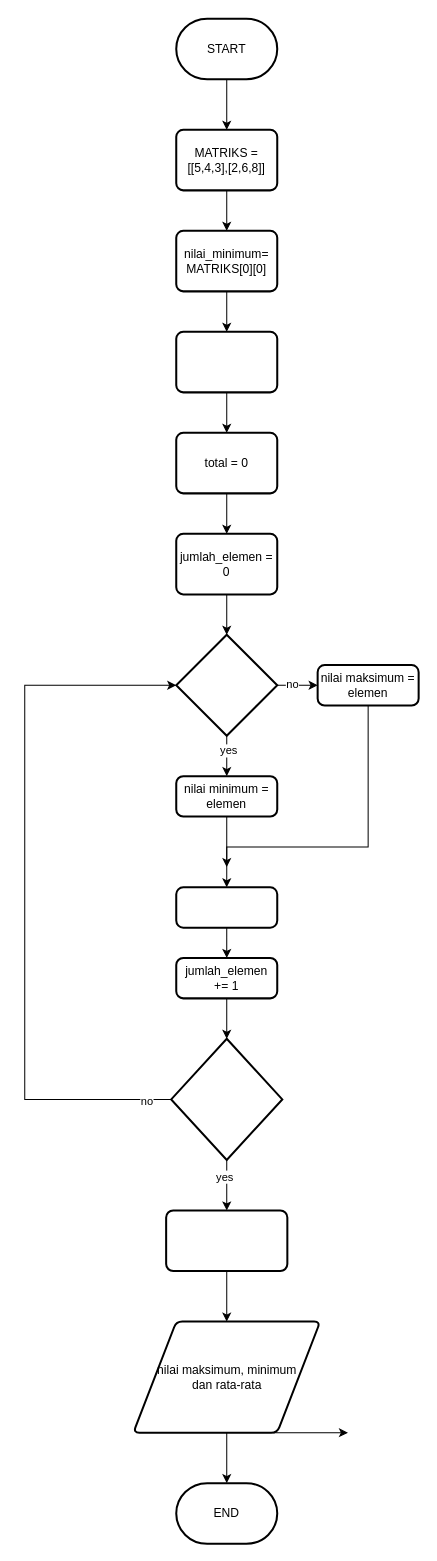
This 437x1561 diagram has some shape labels left out. Here are the shapes that lost their labels. From the top down, the centre of each, then its label:
At (x=226, y=361): "nilai_maksimum= MATRIKS[0][0]".
At (x=226, y=684): "elemen < nilai_minimum".
At (x=226, y=907): "total += elemen".
At (x=226, y=1098): "apakah semua elemen sudah di cek?".
At (x=226, y=1240): "rata_rata = total/jumlah_elemen".
